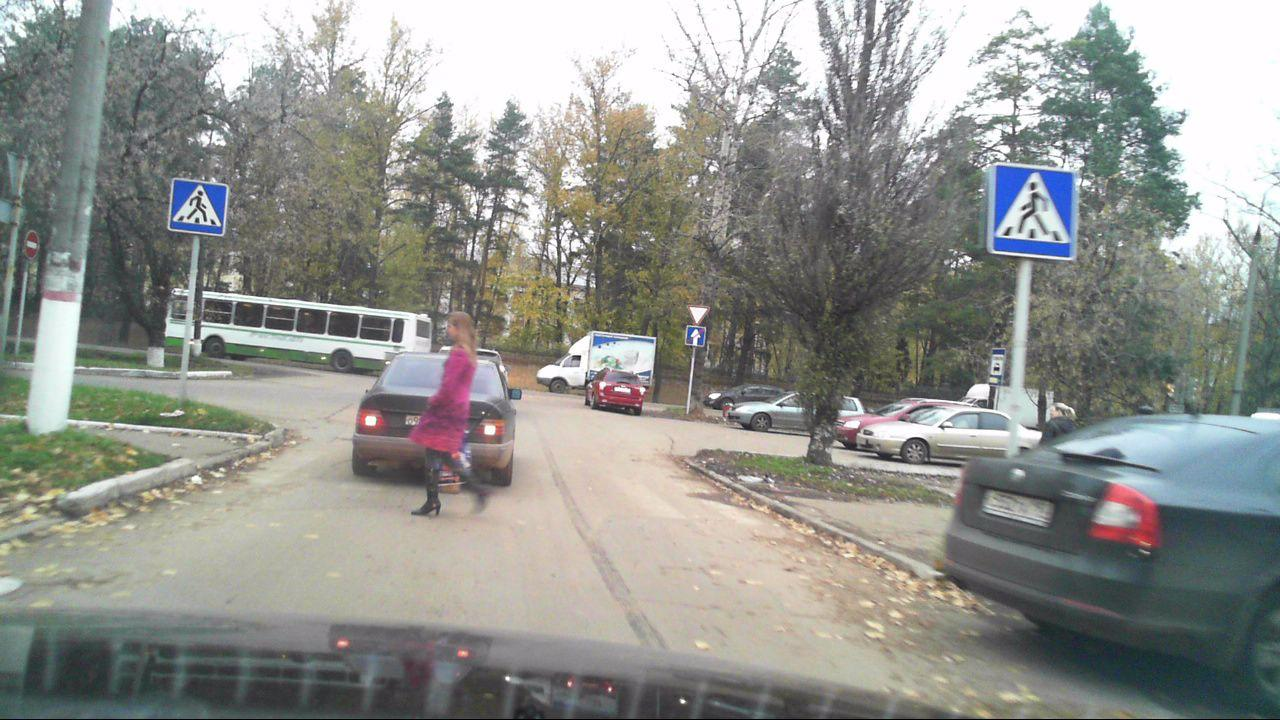2_4: (688, 303, 709, 326)
5_18: (987, 347, 1005, 384)
5_19_1: (988, 162, 1074, 259)
5_19_2: (168, 176, 228, 235)
5_6: (684, 327, 706, 348)
